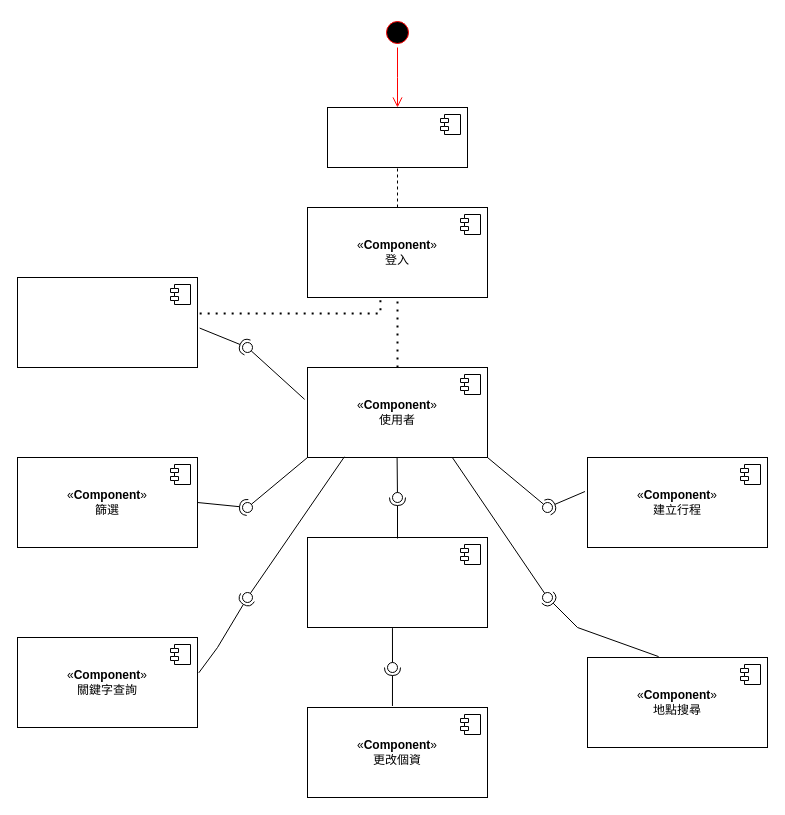
Some shapes in this 785 by 815 pixel diagram are drawn without their labels. Each missing label, with the centre of its shape:
HopOp Taipei: pixel 397 137
« Component » 帳戶: pixel 397 582
« Component » 我的最愛: pixel 107 322
